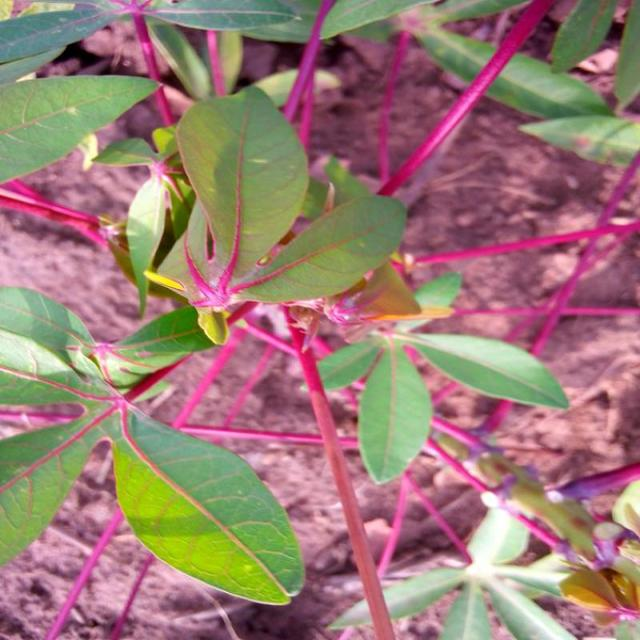cassava leaf: (1, 284, 306, 607), (148, 83, 408, 318), (111, 401, 306, 607), (176, 83, 310, 288)
